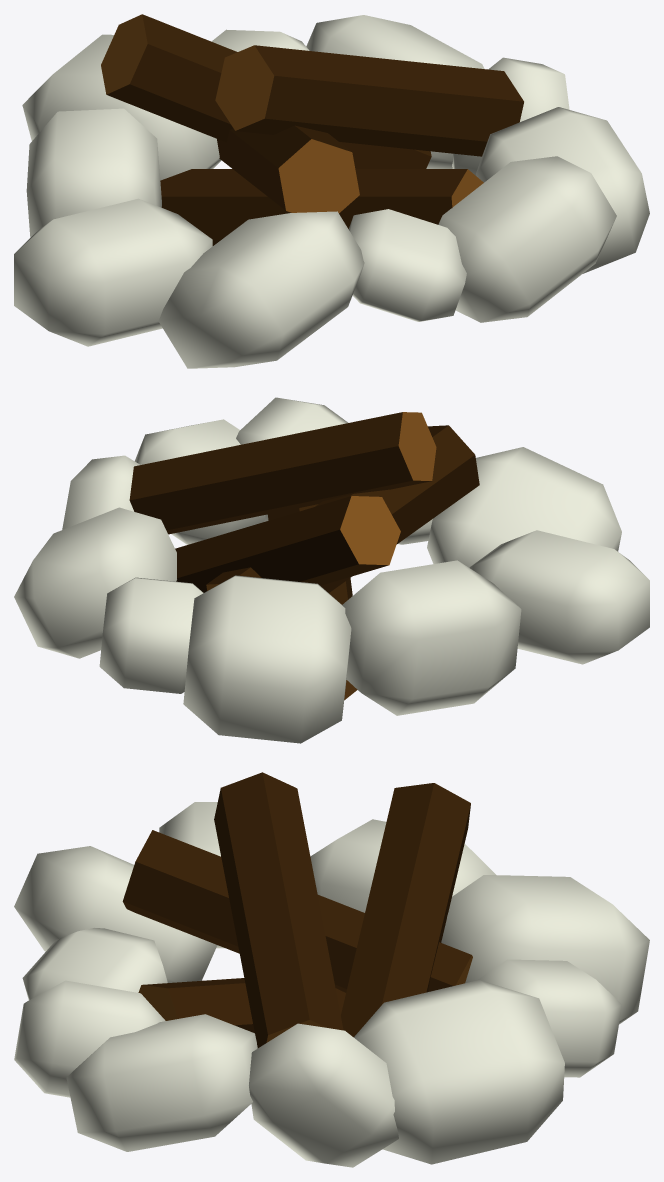
Rendered from FBX_FEU_CAMP.fbx.
3 renders of one model, top to bottom at view 1: azimuth 30°, elevation 25°; view 2: azimuth 150°, elevation 25°; view 3: azimuth 270°, elevation 25°, orthographic. The views are drawn at different scales.
Parts seen in each view (by area): view 1: pCube58; view 2: pCube58; view 3: pCube58.
Boxes of the visible parts, x1,y1,x2,y2 form: pCube58: (14, 14, 649, 368); pCube58: (14, 397, 649, 743); pCube58: (14, 772, 649, 1167).
Bounding box in the file's own units: 76.17 × 33.8 × 71.35.
